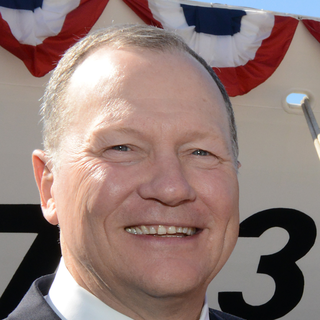eye: (97, 140, 143, 157), (182, 142, 219, 161)
